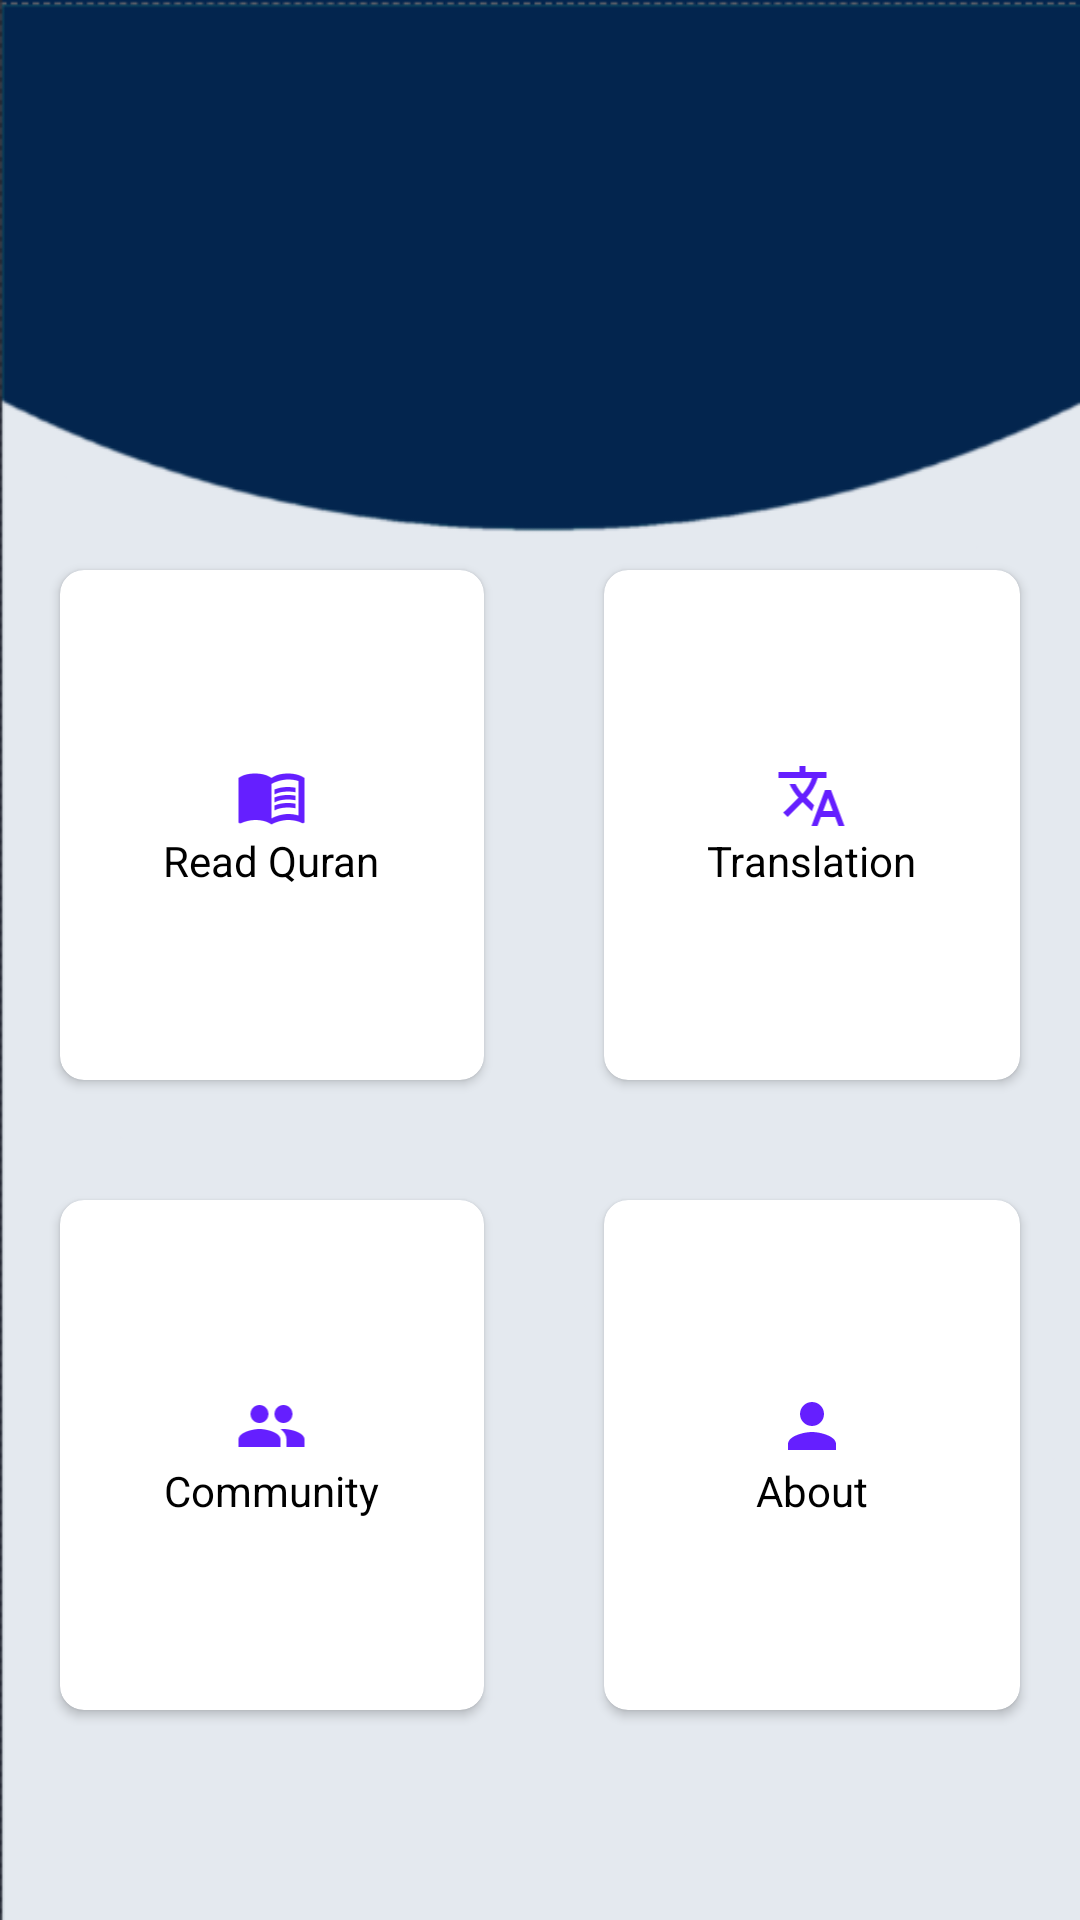

Locate icon controls on the screen. Image size 1080 x 1920, boxes as (x1=x1, y1=y1, x2=x2, y2=y2).
book: (x1=238, y1=773, x2=305, y2=825)
people: (x1=238, y1=1405, x2=305, y2=1447)
